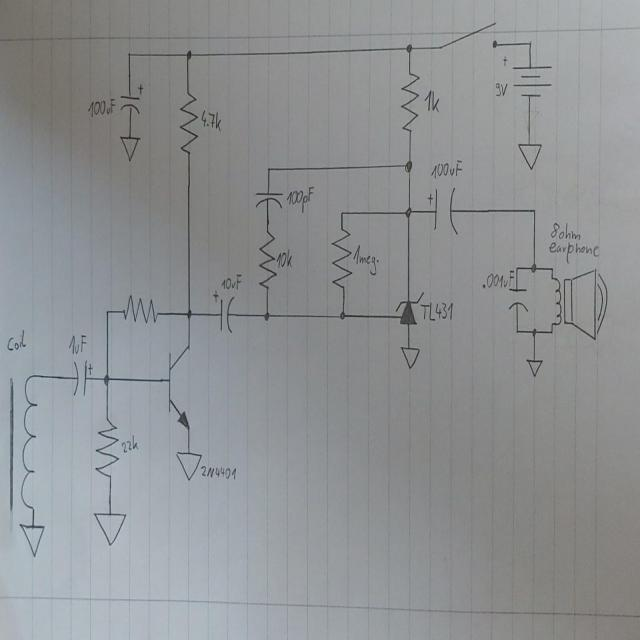capacitor: (426, 185, 459, 236), (212, 289, 235, 334), (71, 357, 94, 397), (119, 82, 145, 114), (252, 188, 285, 208), (507, 288, 528, 312)
ground: (92, 509, 128, 547), (19, 522, 45, 559), (175, 448, 202, 481), (516, 140, 542, 170), (118, 133, 140, 162), (400, 344, 420, 370), (525, 357, 543, 377)
inductor: (7, 370, 40, 515)
junction: (101, 370, 113, 389), (403, 156, 414, 175), (184, 45, 194, 63), (403, 40, 414, 56), (338, 306, 347, 323), (403, 203, 412, 220), (184, 304, 193, 320), (262, 308, 271, 323), (103, 304, 111, 319), (125, 47, 134, 60), (526, 38, 533, 49), (530, 261, 536, 273), (531, 327, 537, 337), (266, 164, 271, 174), (531, 206, 537, 214), (339, 208, 344, 217), (515, 264, 519, 272), (515, 327, 519, 334)
resistor: (94, 415, 119, 478), (330, 225, 352, 291), (178, 88, 198, 156), (400, 68, 420, 134), (257, 227, 276, 293), (121, 292, 159, 324)
source: (502, 54, 553, 100)
switch: (439, 20, 498, 50)
text: (548, 240, 600, 263), (284, 184, 315, 214), (352, 242, 379, 276), (481, 268, 515, 291), (420, 299, 454, 322), (85, 95, 116, 118), (430, 158, 462, 180), (198, 462, 237, 480), (199, 106, 223, 134), (550, 219, 581, 240), (5, 328, 27, 352), (423, 88, 441, 114), (67, 332, 87, 355), (218, 274, 242, 292), (276, 248, 294, 270), (120, 434, 138, 454), (494, 80, 508, 98)
thyristor: (394, 289, 425, 327)
transistor: (166, 341, 194, 431)
